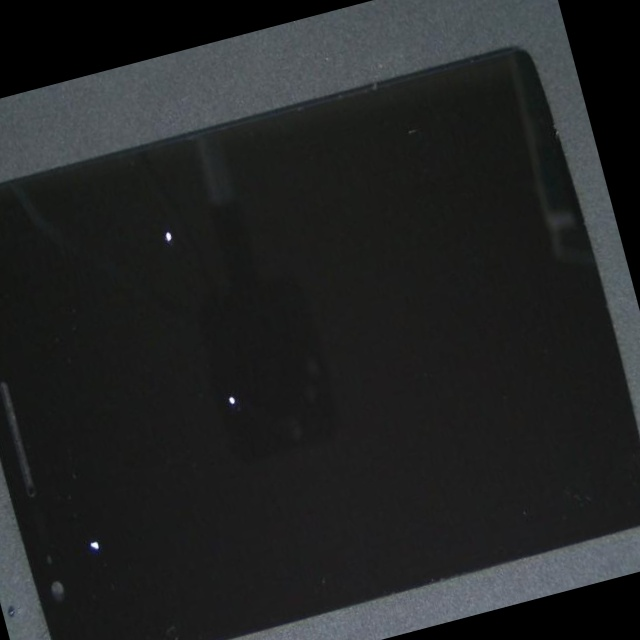stain: (68, 182, 388, 572), (0, 107, 305, 396), (0, 280, 187, 640)
